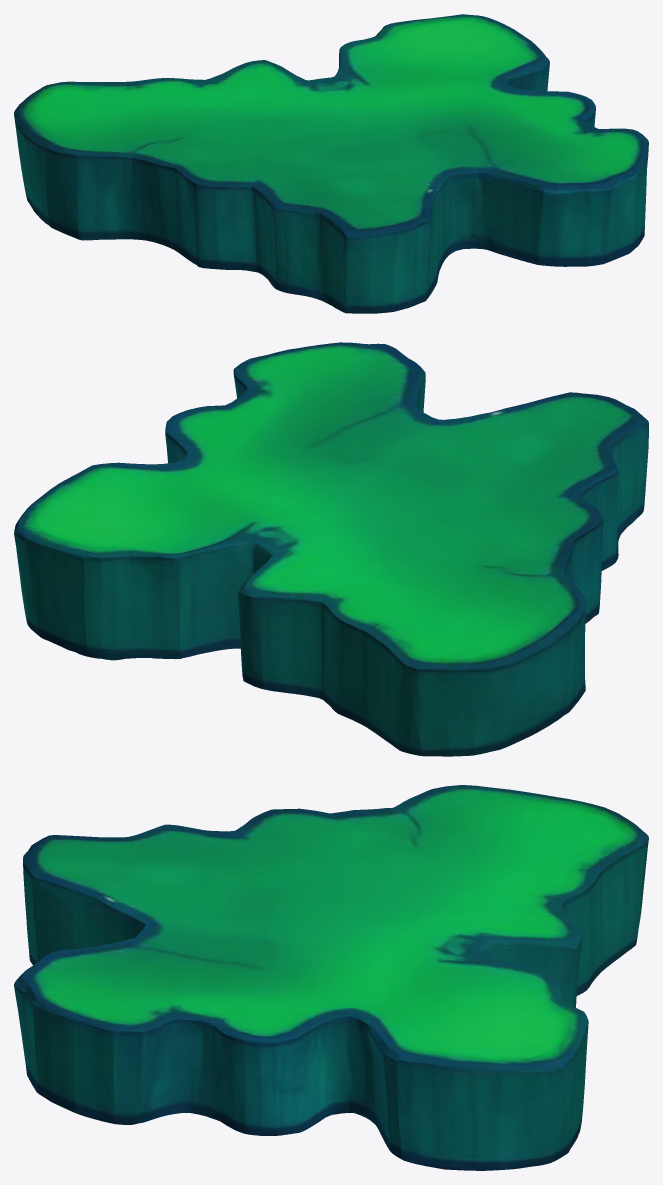
3 renders of one model, top to bottom at view 1: azimuth 30°, elevation 25°; view 2: azimuth 150°, elevation 25°; view 3: azimuth 270°, elevation 25°, orthographic. The views are drawn at different scales.
Visible parts, largest first — view 1: world; view 2: world; view 3: world.
Boxes of the visible parts, <box> form: world: <box>14,14,648,313</box>; world: <box>14,342,648,756</box>; world: <box>14,785,648,1170</box>.
Bounding box in the file's own units: 0.9949 × 0.2323 × 0.9634.
Materials: 1 (1 with a texture image).
